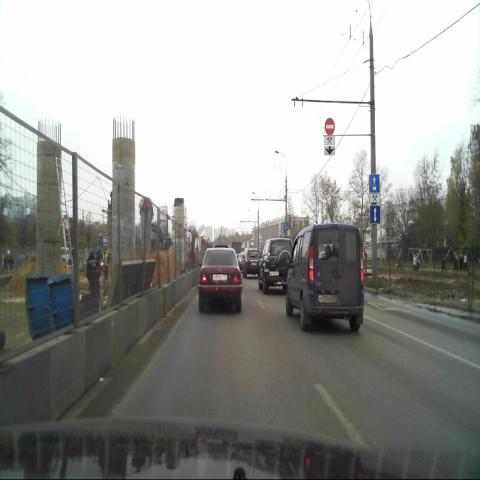3_1: (325, 117, 335, 135)
5_14: (370, 175, 379, 192)
5_8: (370, 206, 380, 223)
